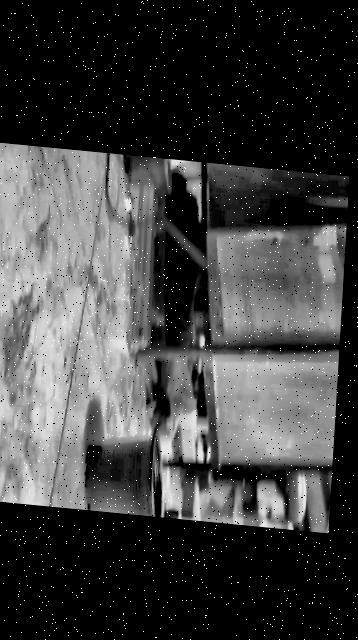pot: (83, 426, 168, 518), (123, 154, 171, 189)
